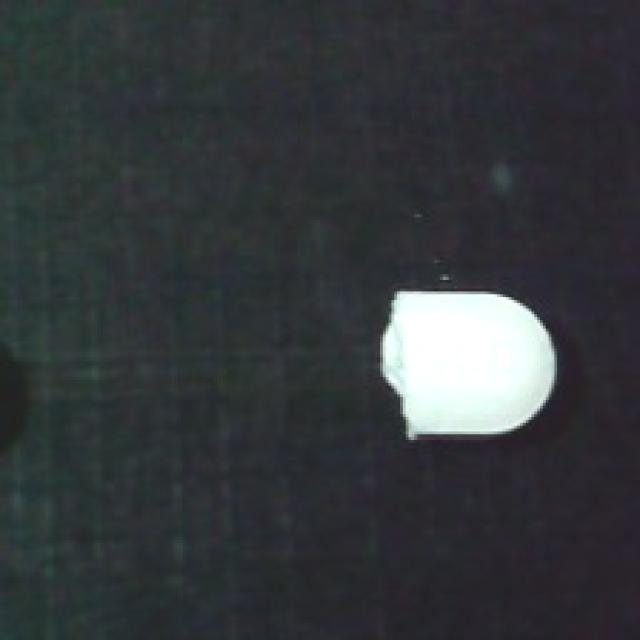defected: (374, 286, 563, 446)
